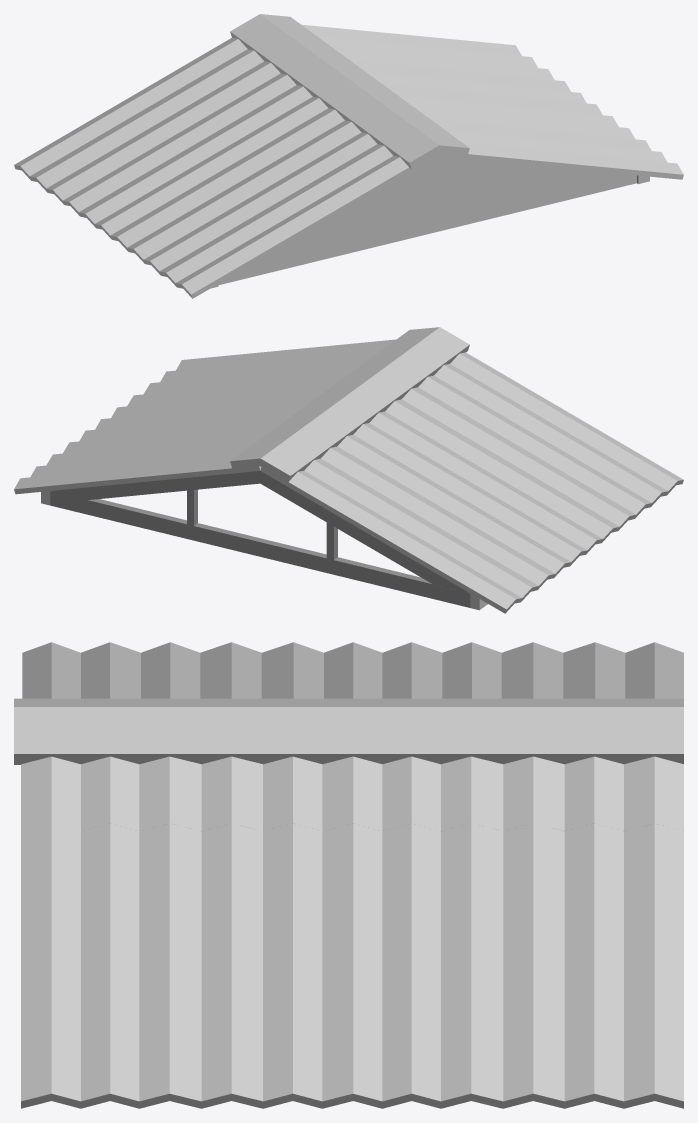
File: Wh_Roof_End_9m.fbx
3 views of the same model, one above another, from view 1: azimuth 30°, elevation 25°; view 2: azimuth 150°, elevation 25°; view 3: azimuth 270°, elevation 25° (orthographic). The views are drawn at different scales.
Parts seen in each view (by area): view 1: Cube.1074; view 2: Cube.1074; view 3: Cube.1074.
Boxes of the visible parts, x1=… form: Cube.1074: x1=14, y1=14, x2=683, y2=298; Cube.1074: x1=14, y1=327, x2=683, y2=613; Cube.1074: x1=14, y1=642, x2=683, y2=1108.
Bounding box in the file's own units: 1063 × 202 × 667.
